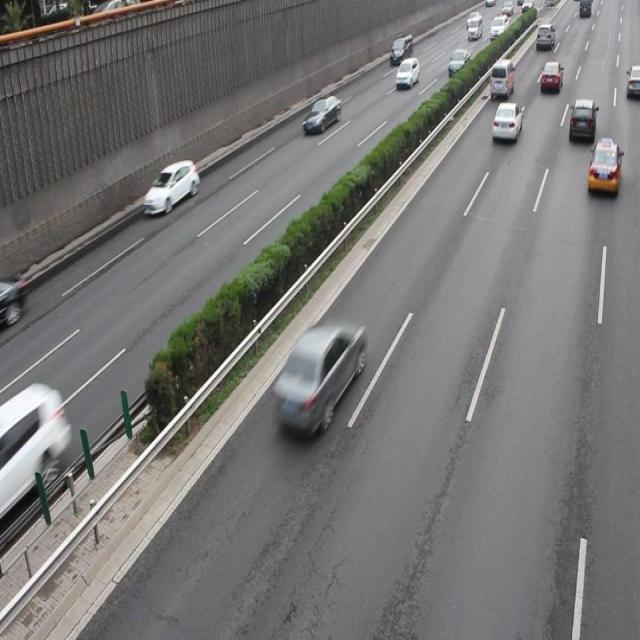car: (271, 321, 364, 433), (1, 382, 69, 509), (142, 157, 200, 215), (584, 136, 618, 197), (302, 95, 342, 134), (1, 271, 27, 326), (489, 101, 522, 142), (567, 99, 595, 144)
